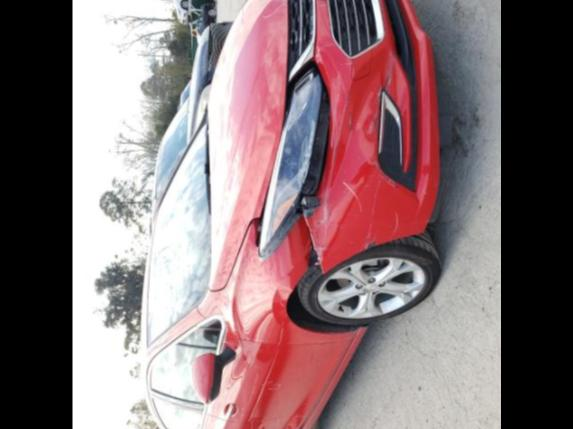Broken part: (250, 55, 339, 264), (296, 206, 327, 275)
Dent: (315, 37, 425, 256), (250, 216, 259, 244)
Paint chip: (360, 237, 391, 250)
Scratch: (366, 45, 399, 146), (339, 180, 370, 218), (316, 196, 330, 260), (342, 93, 357, 138), (387, 202, 403, 232)
